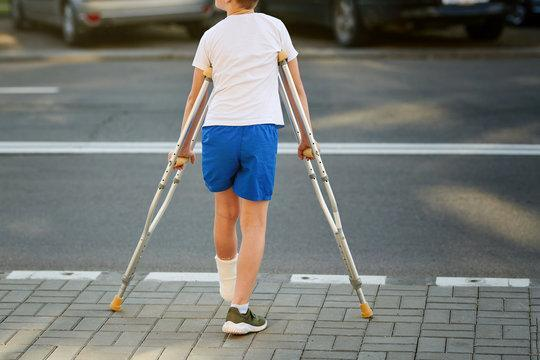crutches: (110, 0, 374, 336)
